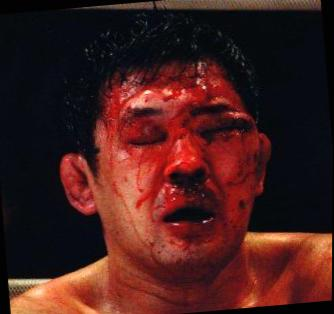Fire: (95, 62, 272, 290)
